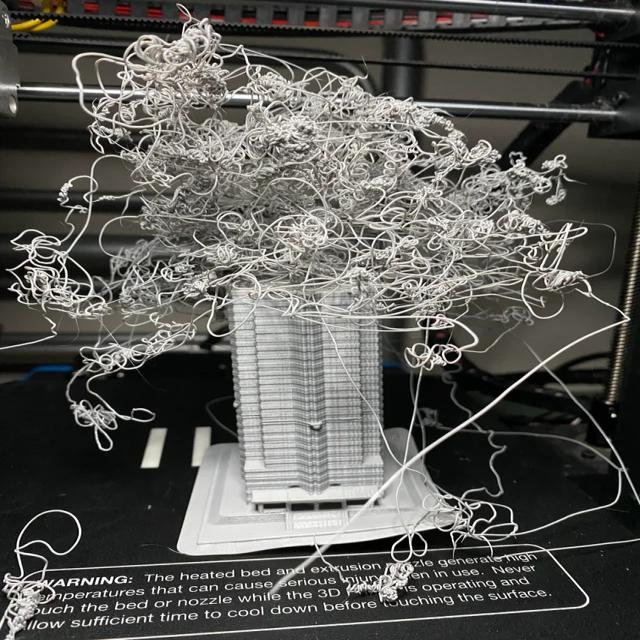spaghetti: (22, 17, 610, 446), (0, 515, 89, 640), (348, 550, 442, 615)
